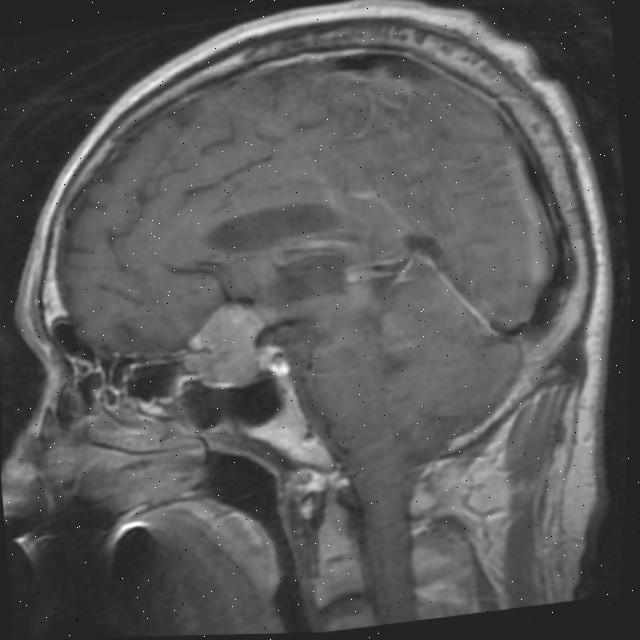Pituitary: (178, 298, 274, 394)
